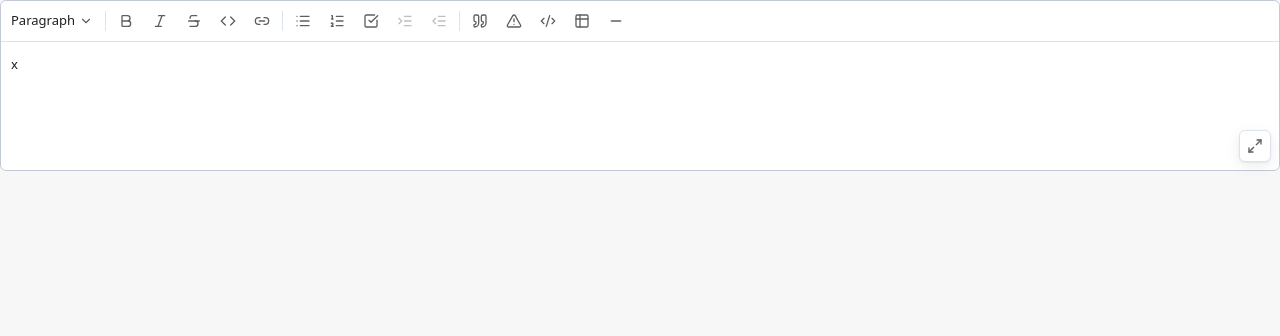
Test: RichTextEditor › inserts a table, then offers row and column actions while the cursor is in it
Expected: the field named "Notes" is shown, x1=11 y1=55 x2=18 y2=73
What coordinates should you click on to do the following:
click the button named "Table"
I would click on:
 (582, 21)
Its box is x1=566 y1=5 x2=598 y2=37.
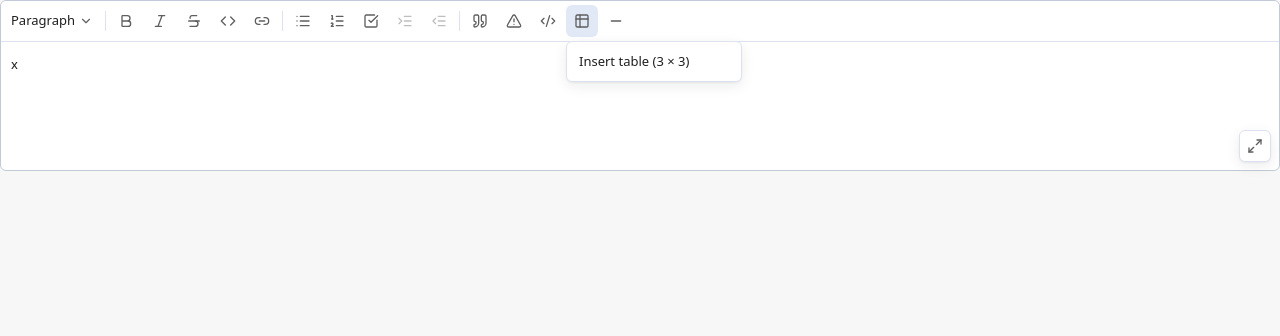
What coordinates should you click on to do the following:
click the menu item "Insert table (3 × 3)"
I would click on:
 (634, 61)
Its box is x1=579 y1=52 x2=689 y2=70.
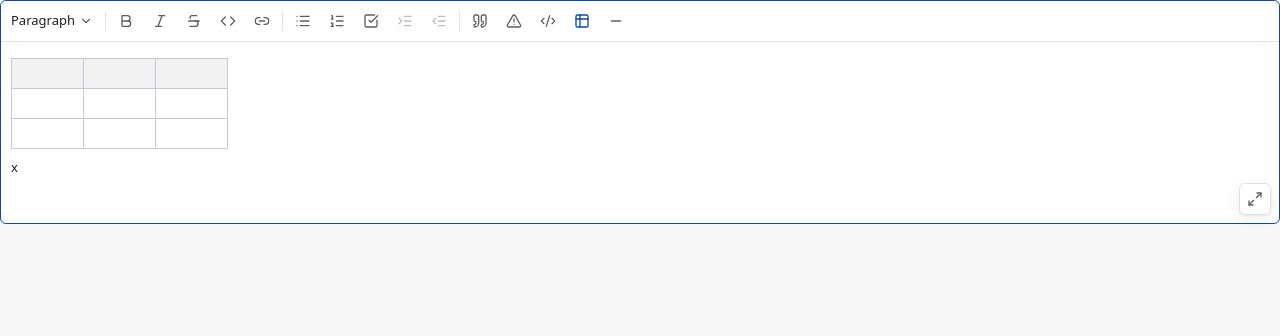
Expected: the number of column headings is 3, x1=12 y1=58 x2=84 y2=89; x1=84 y1=58 x2=156 y2=89; x1=156 y1=58 x2=228 y2=89
Expected: the number of cells is 6, x1=12 y1=89 x2=84 y2=119; x1=84 y1=89 x2=156 y2=119; x1=156 y1=89 x2=228 y2=119; x1=12 y1=119 x2=84 y2=149; x1=84 y1=119 x2=156 y2=149; x1=156 y1=119 x2=228 y2=149
What coordinates should you click on to do the following:
click the button named "Table"
I would click on:
 (582, 21)
Its box is x1=566 y1=5 x2=598 y2=37.
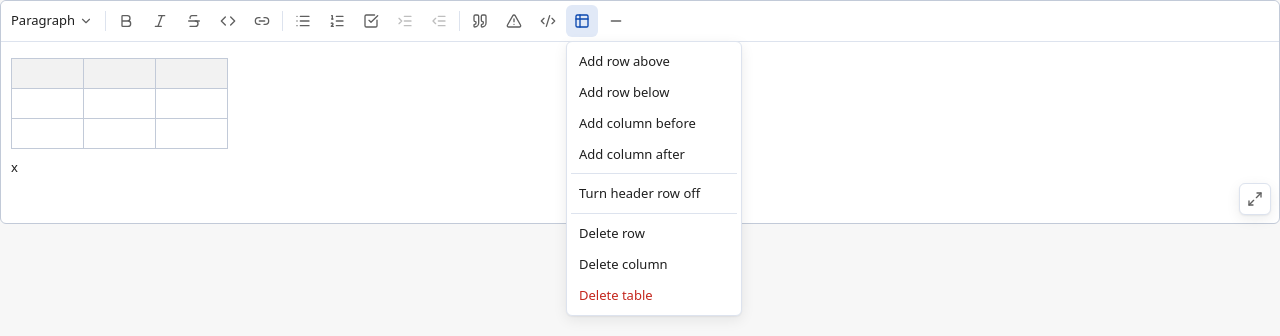
What coordinates should you click on to do the following:
click the menu item "Add column after"
I would click on:
 (632, 154)
Its box is x1=579 y1=144 x2=685 y2=162.
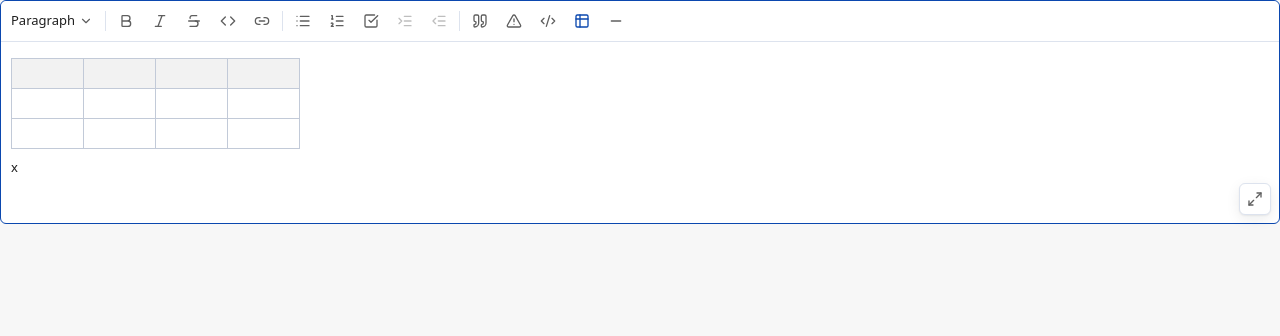
Expected: the number of column headings is 4, x1=12 y1=58 x2=84 y2=89; x1=84 y1=58 x2=156 y2=89; x1=156 y1=58 x2=228 y2=89; x1=228 y1=58 x2=300 y2=89
